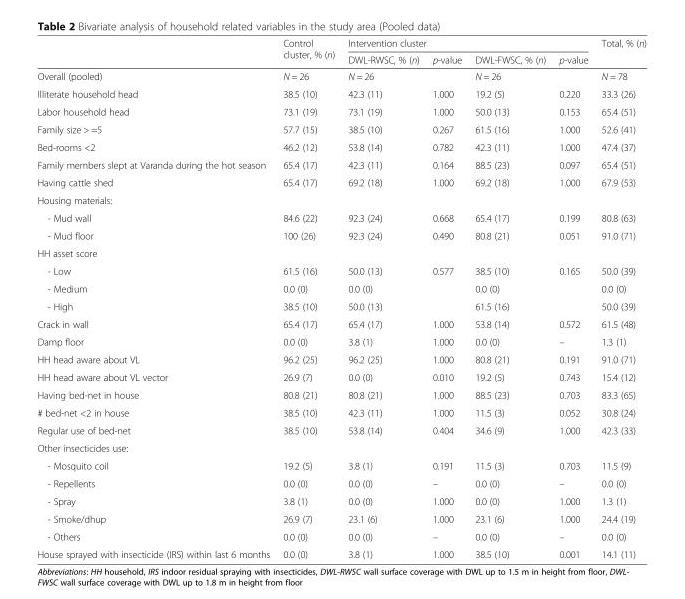table: (36, 37, 645, 559)
table column: (36, 37, 275, 559), (340, 37, 425, 559), (467, 37, 551, 559), (275, 37, 340, 559), (594, 37, 645, 559), (551, 37, 594, 559), (425, 37, 467, 559)
table column header: (36, 37, 645, 67)
table projected row header: (36, 438, 645, 456), (36, 191, 645, 208), (36, 244, 645, 261)
table row: (36, 84, 645, 102), (36, 102, 645, 120), (36, 137, 645, 155), (36, 155, 645, 173), (36, 173, 645, 191), (36, 208, 645, 226), (36, 226, 645, 244), (36, 261, 645, 279), (36, 279, 645, 297), (36, 314, 645, 332), (36, 332, 645, 350), (36, 350, 645, 368), (36, 385, 645, 403), (36, 403, 645, 421), (36, 438, 645, 456), (36, 456, 645, 474), (36, 474, 645, 492), (36, 509, 645, 527), (36, 527, 645, 545), (36, 67, 645, 84), (36, 120, 645, 137), (36, 191, 645, 208), (36, 244, 645, 261), (36, 297, 645, 314), (36, 368, 645, 385), (36, 421, 645, 438), (36, 492, 645, 509), (36, 51, 645, 67), (36, 37, 645, 51), (36, 545, 645, 559)
table spanning cell: (340, 37, 594, 51), (275, 37, 340, 67), (594, 37, 645, 67)
